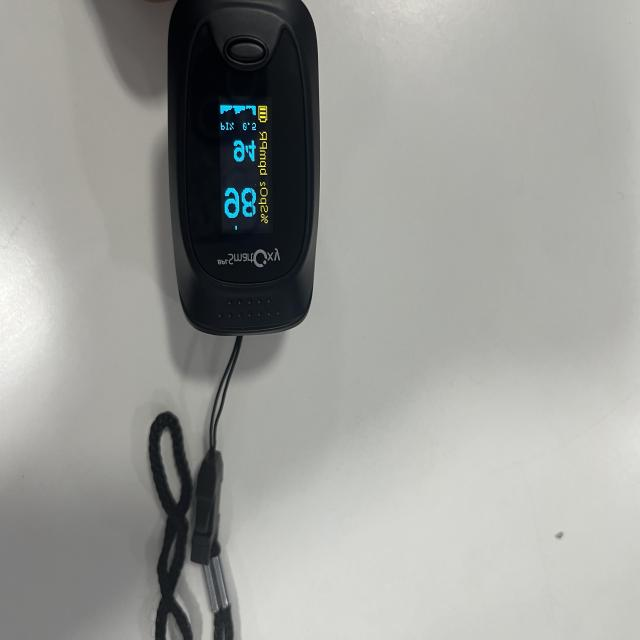spo2: (166, 0, 320, 338)
